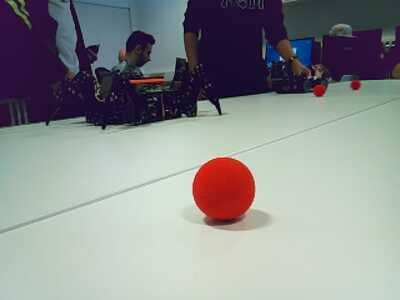bola_cerca: (190, 157, 258, 222)
bola_lejos: (313, 84, 325, 97), (351, 78, 362, 90)
hexapodo_ajeno: (44, 62, 230, 131)
